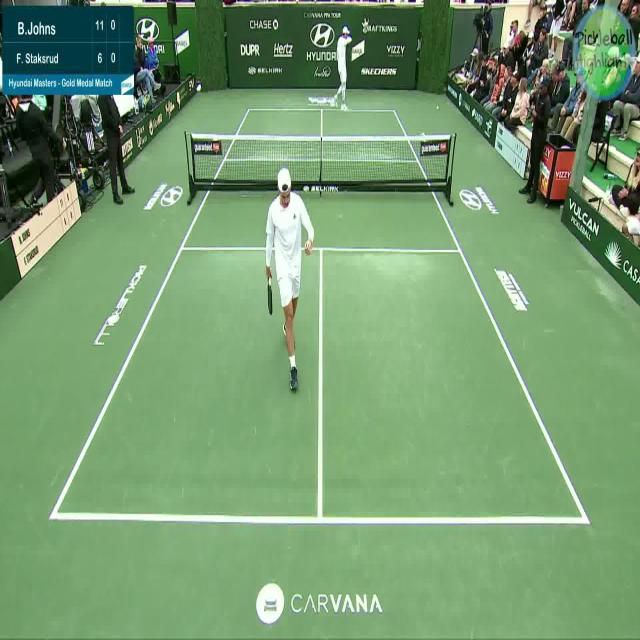Court: (55, 105, 591, 524)
ball: (431, 102, 445, 116)
